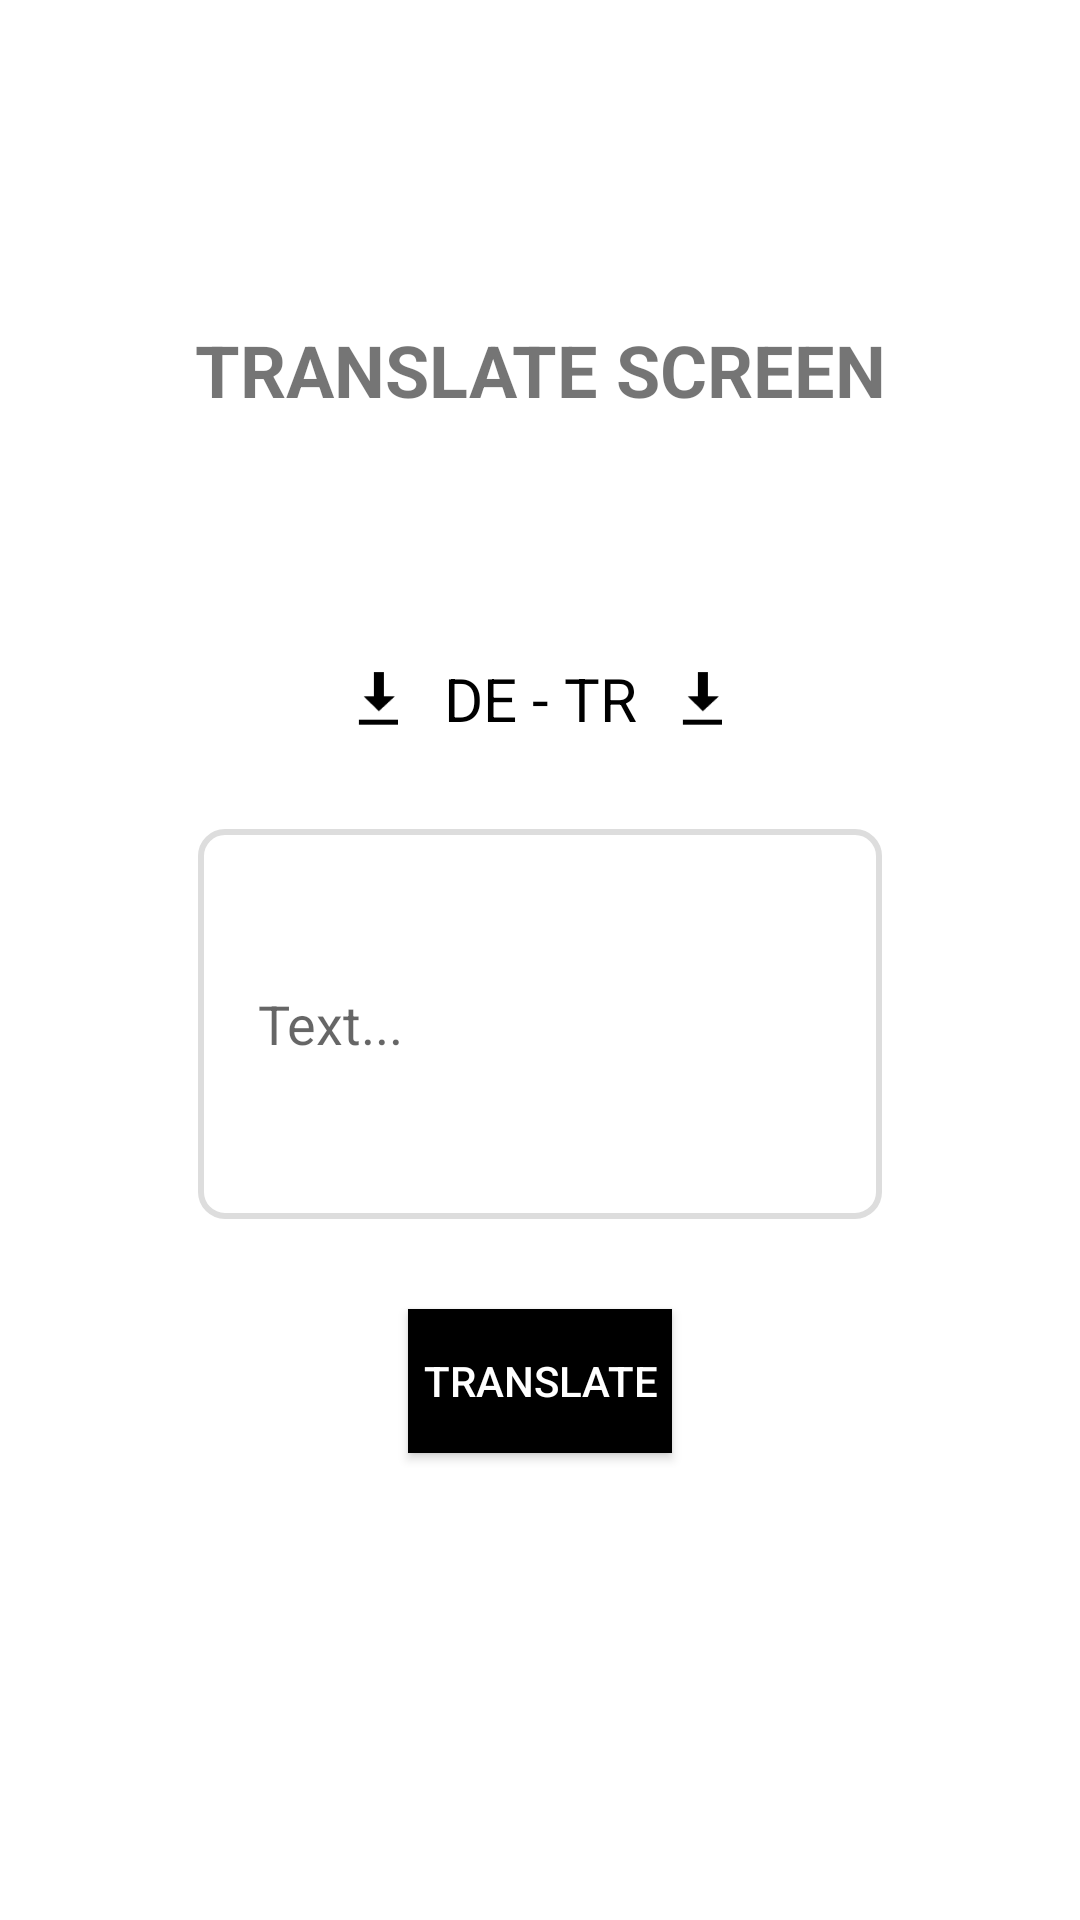

Screen size 1080*1920. Icon name, then its box in pixels as (x1, y1, x2, y2):
download: (358, 672, 398, 725), (682, 672, 722, 725)
